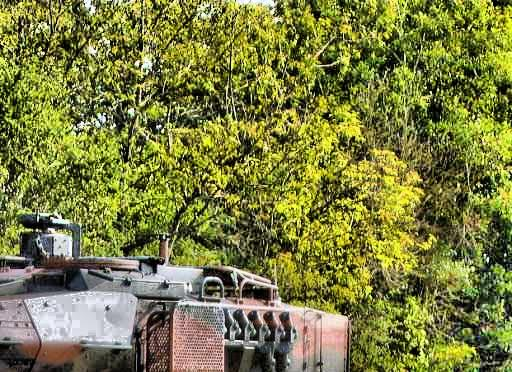tanks: (1, 215, 351, 372)
